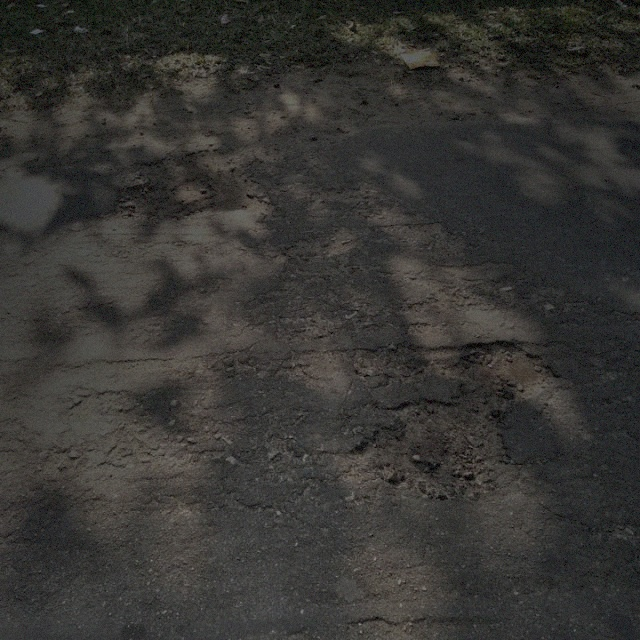pothole: (351, 396, 515, 503), (105, 146, 275, 222), (452, 336, 560, 401)
